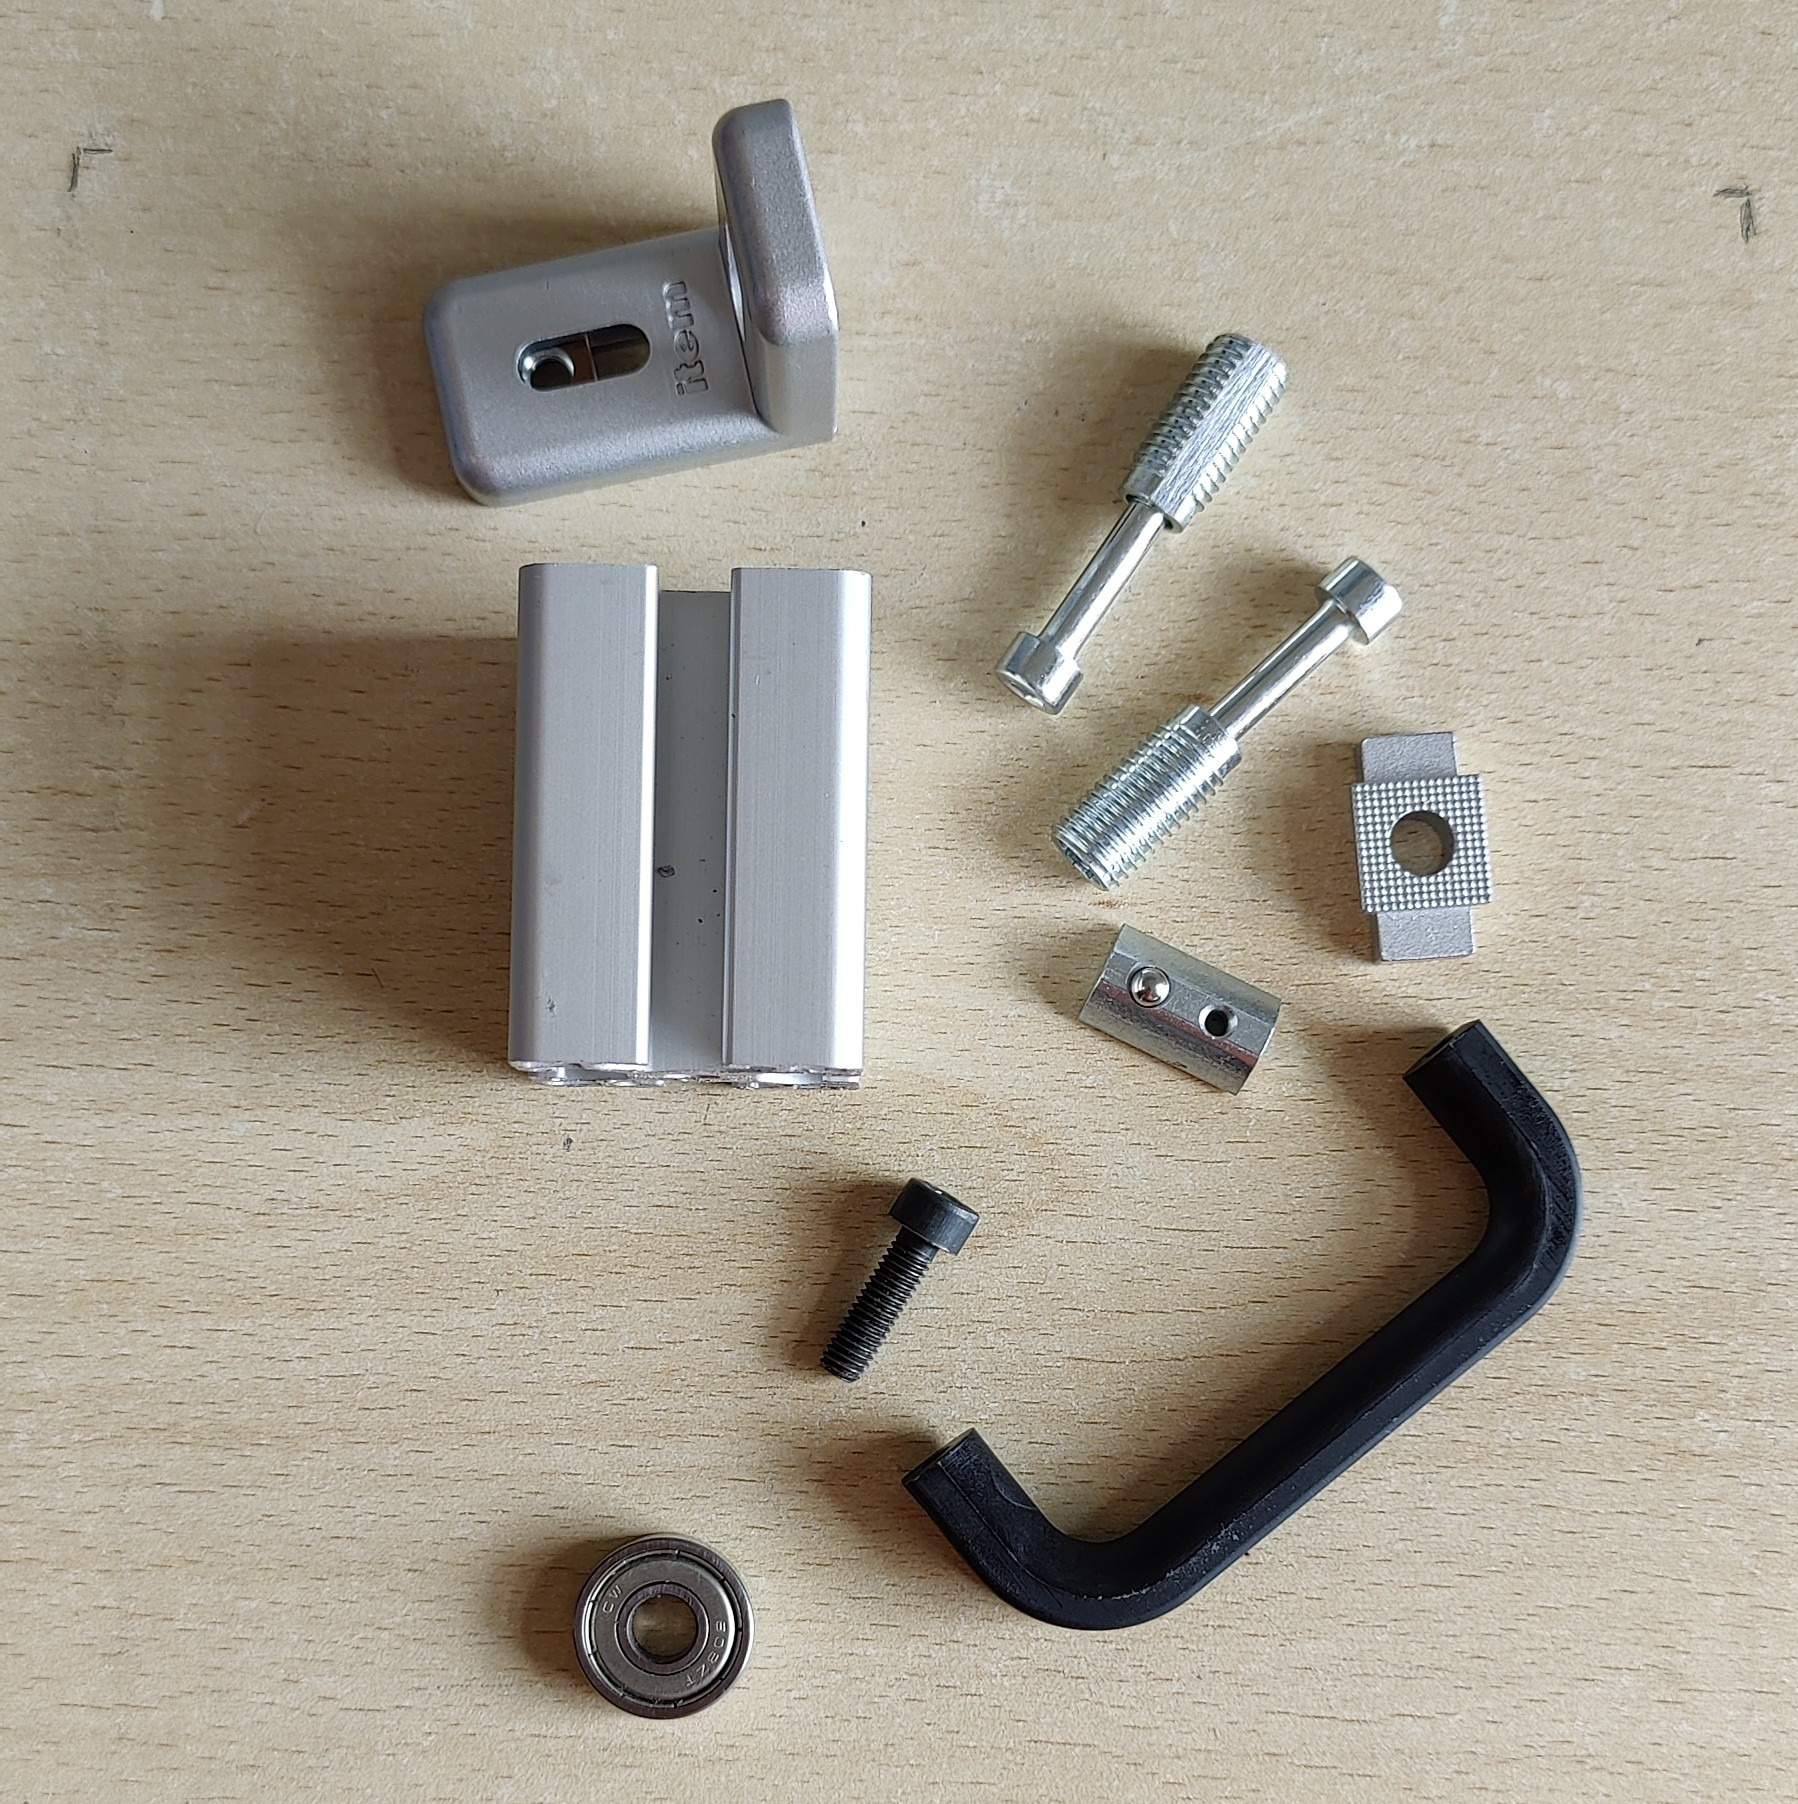Aluminium Extension: (502, 560, 876, 1096)
Ball Bearing: (573, 1534, 756, 1722)
Multiwinkel: (418, 97, 843, 510)
Pull Handle: (896, 1012, 1584, 1636)
Shoulder Socket Head Cap Screw: (1046, 550, 1406, 894), (988, 328, 1296, 719)
Socket Head Cap Screw: (817, 1174, 981, 1388)
T Nut Square: (1344, 728, 1497, 969)
T Spring Nut: (1069, 922, 1288, 1101)
